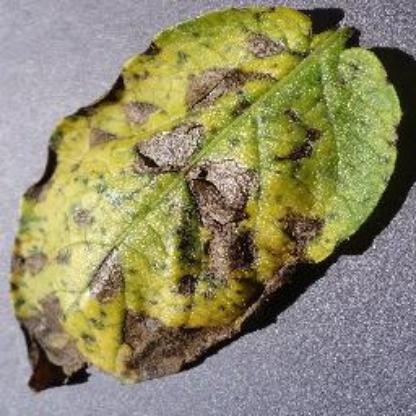Early-Blight: (11, 6, 407, 394)
